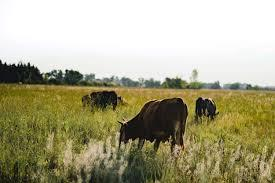cow: (117, 97, 188, 154), (90, 91, 125, 112), (193, 97, 220, 121), (82, 94, 90, 108)
